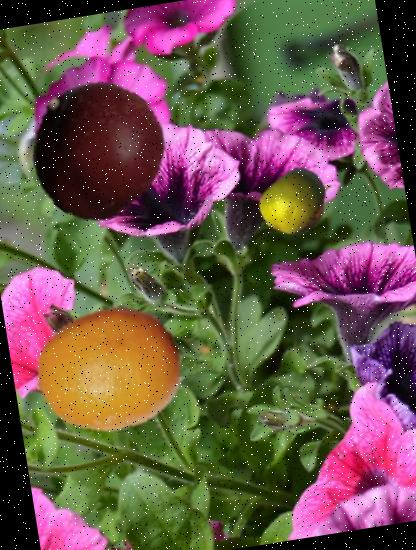Granadilla: (261, 164, 342, 246)
Lemon: (26, 288, 192, 454)
Nectarine: (16, 70, 175, 229)
Pomelo: (254, 161, 335, 242)
